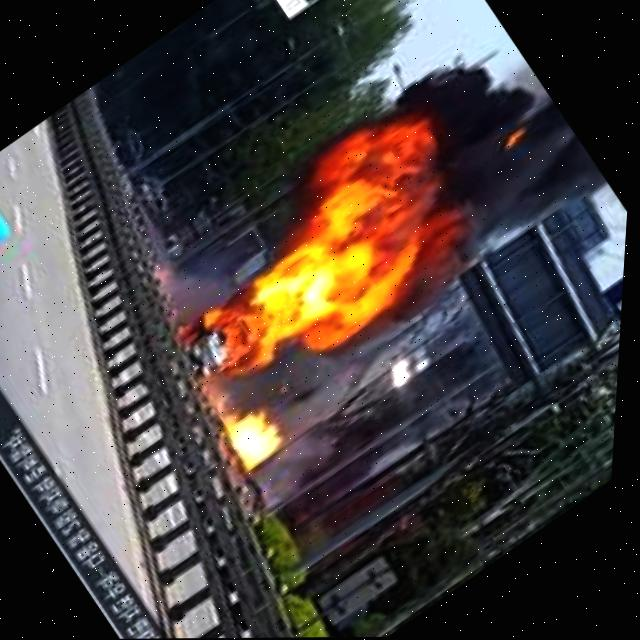Fire: (132, 86, 521, 434), (226, 408, 293, 474)
Smoke: (391, 15, 617, 251)
